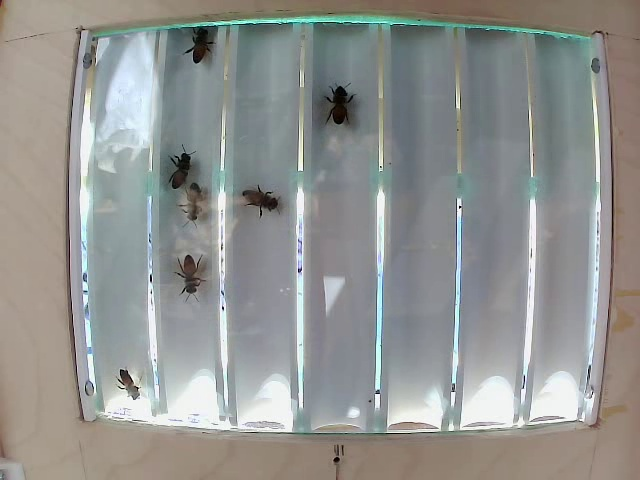bee: (235, 183, 285, 233), (183, 237, 215, 303), (192, 14, 222, 76), (159, 145, 198, 190), (322, 96, 370, 128), (172, 180, 206, 225)
